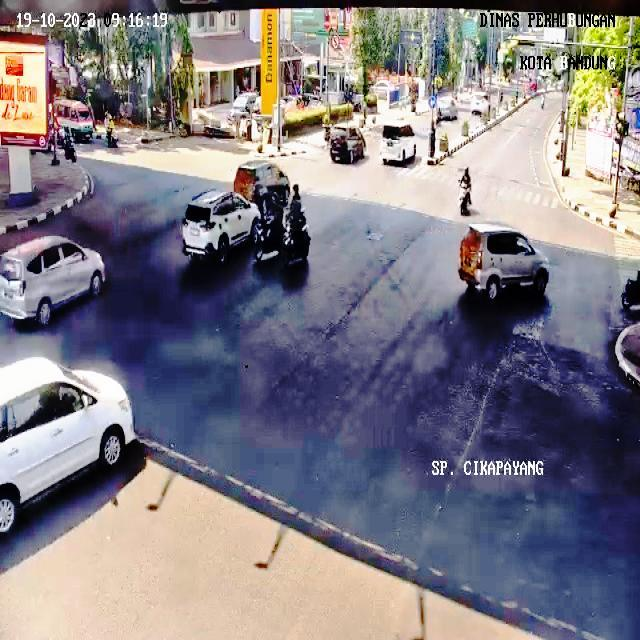car: (0, 358, 135, 532), (0, 236, 106, 323), (459, 224, 549, 300), (182, 190, 260, 261), (234, 160, 290, 203), (381, 125, 416, 164), (331, 128, 365, 163)
motorcyclist: (234, 160, 310, 264), (459, 168, 471, 216)
